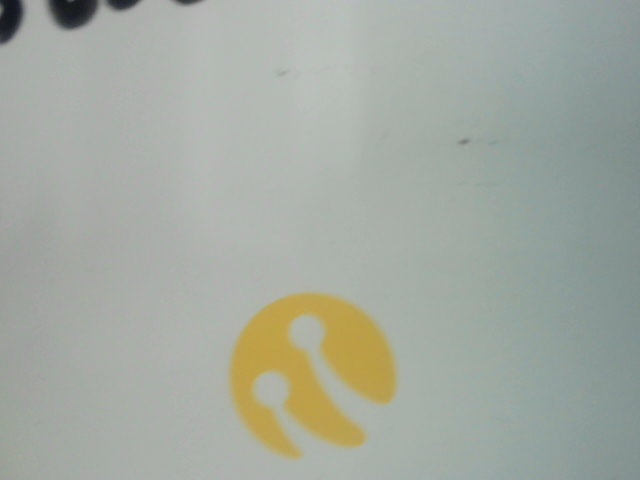AV_H3600Yellow: (208, 284, 427, 454)
